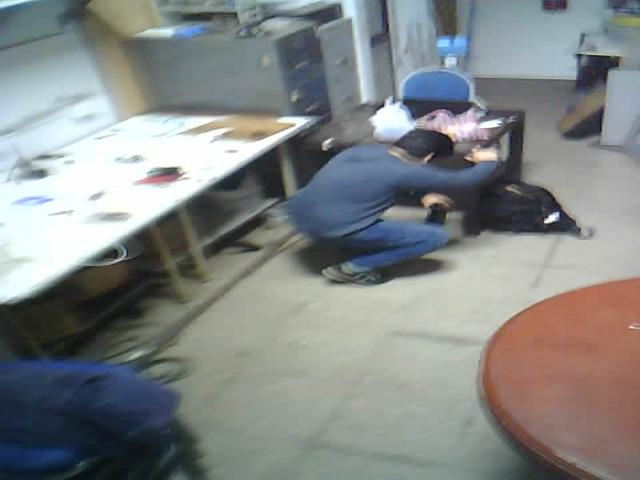person: (274, 92, 512, 307)
